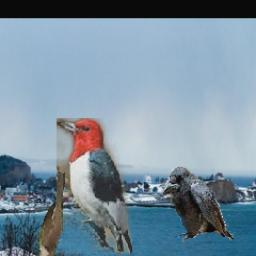Crow: (161, 167, 234, 243)
Cuckoo: (33, 174, 65, 256)
Woodpecker: (58, 118, 133, 254)
